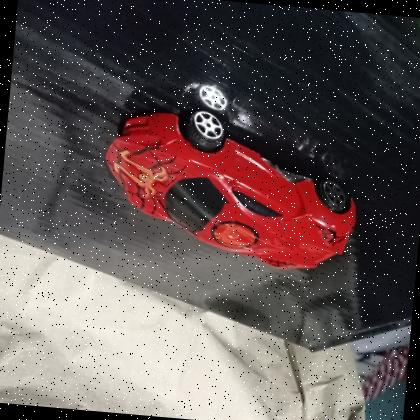Car: (85, 95, 370, 282)
